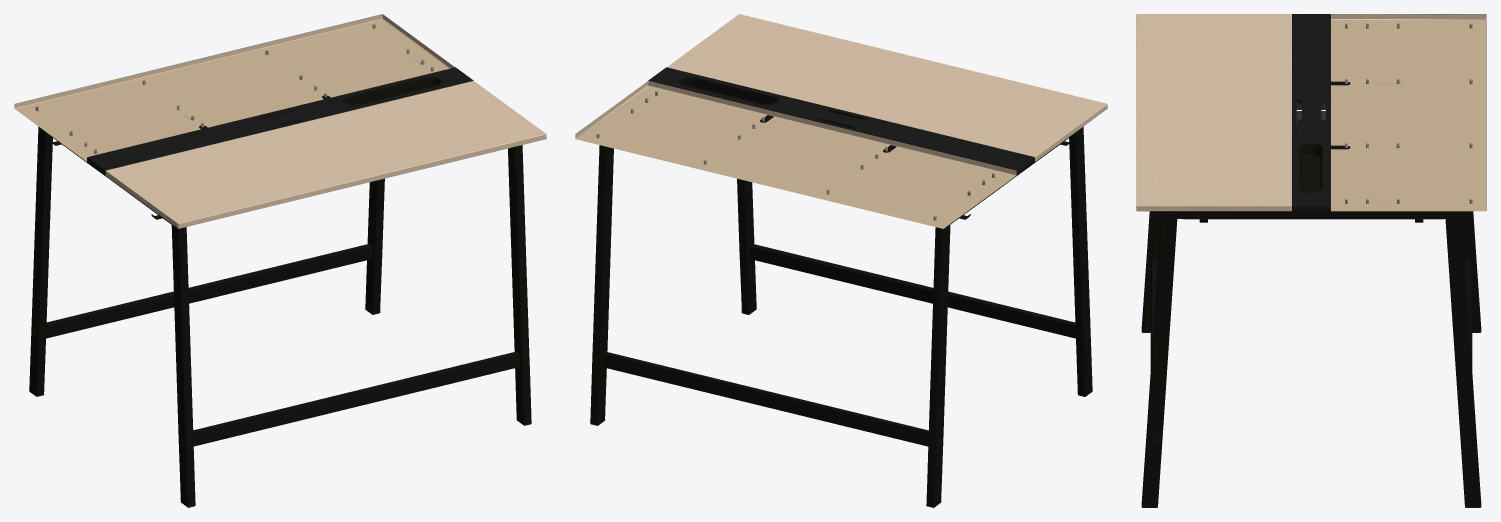
Rendered from 110 - MITTZON - 會議桌, 實木貼皮, 樺木黑色 140x108x105 公分 IKEA 線上購物.glb.
3 renders of one model, left to right at view 1: azimuth 30°, elevation 25°; view 2: azimuth 150°, elevation 25°; view 3: azimuth 270°, elevation 25°, orthographic. The views are drawn at different scales.
Visible parts, largest first — view 1: model, 80544521-MITTZON001, 29532828_conference_table.002, model.001; view 2: model, 80544521-MITTZON001, 29532828_conference_table.002, model.001; view 3: model, 80544521-MITTZON001, 29532828_conference_table.002, model.001.
Part boxes in pixels (bbox=[...]): model: bbox=[14, 14, 546, 228]; 80544521-MITTZON001: bbox=[29, 95, 531, 507]; 29532828_conference_table.002: bbox=[87, 67, 473, 175]; model.001: bbox=[343, 77, 442, 105]; model: bbox=[575, 14, 1107, 228]; 80544521-MITTZON001: bbox=[590, 115, 1092, 507]; 29532828_conference_table.002: bbox=[648, 67, 1034, 174]; model.001: bbox=[679, 77, 778, 105]; model: bbox=[1136, 14, 1486, 211]; 80544521-MITTZON001: bbox=[1141, 81, 1481, 507]; 29532828_conference_table.002: bbox=[1292, 14, 1330, 211]; model.001: bbox=[1299, 143, 1323, 193].
Bounding box in the file's own units: 1.4 × 1.05 × 1.08.
Materials: 4 (4 with a texture image).
